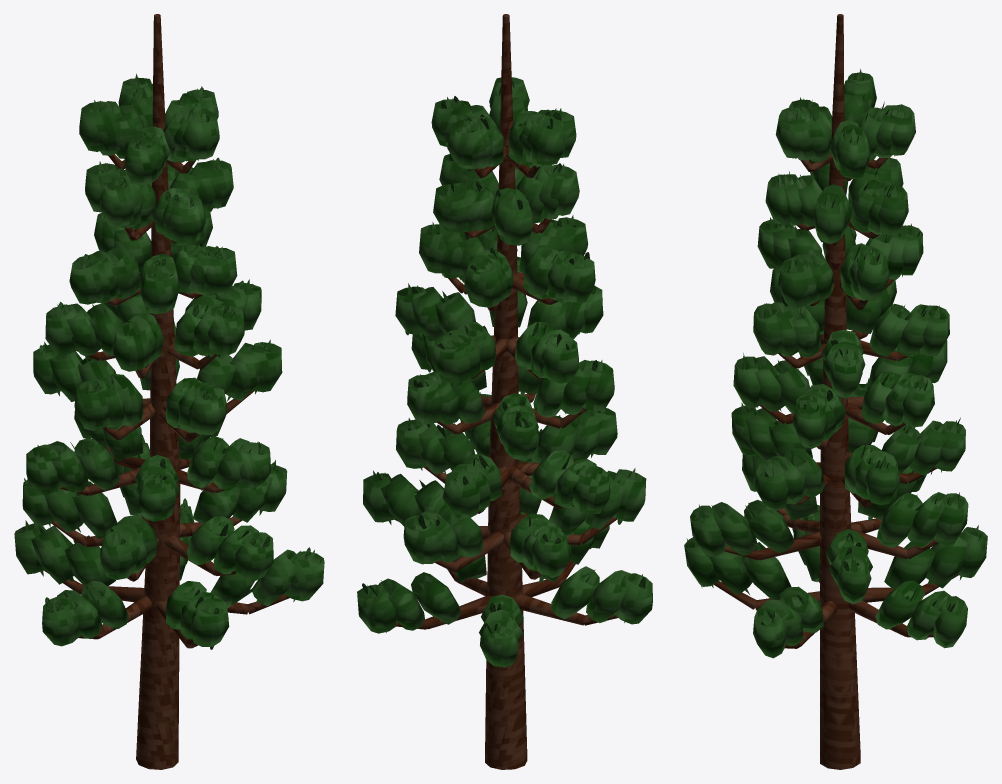
The model's file is pine03-lod0.glb.
3 views of the same model, side by side, from view 1: azimuth 30°, elevation 25°; view 2: azimuth 150°, elevation 25°; view 3: azimuth 270°, elevation 25° (orthographic).
Visible parts, largest first — view 1: TZ_pine_Batch_01_LOD0, TZ_pine_Batch_00_LOD0, TZ_pine_Batch_02_LOD0; view 2: TZ_pine_Batch_01_LOD0, TZ_pine_Batch_00_LOD0, TZ_pine_Batch_02_LOD0; view 3: TZ_pine_Batch_01_LOD0, TZ_pine_Batch_00_LOD0, TZ_pine_Batch_02_LOD0.
Boxes of the visible parts, <box> form: TZ_pine_Batch_01_LOD0: <box>14,73,324,646</box>; TZ_pine_Batch_00_LOD0: <box>44,14,289,769</box>; TZ_pine_Batch_02_LOD0: <box>24,81,321,649</box>; TZ_pine_Batch_01_LOD0: <box>357,77,652,667</box>; TZ_pine_Batch_00_LOD0: <box>394,14,617,769</box>; TZ_pine_Batch_02_LOD0: <box>362,80,645,634</box>; TZ_pine_Batch_01_LOD0: <box>684,69,987,658</box>; TZ_pine_Batch_00_LOD0: <box>714,14,958,769</box>; TZ_pine_Batch_02_LOD0: <box>686,75,981,625</box>.
Size of the model in its own units: 3.38 by 8.8 by 3.25.
3 materials, 3 textured.
